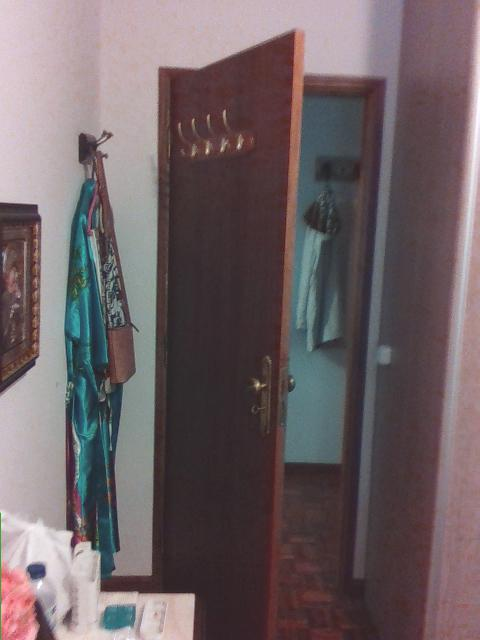semi_door: (151, 20, 389, 639)
